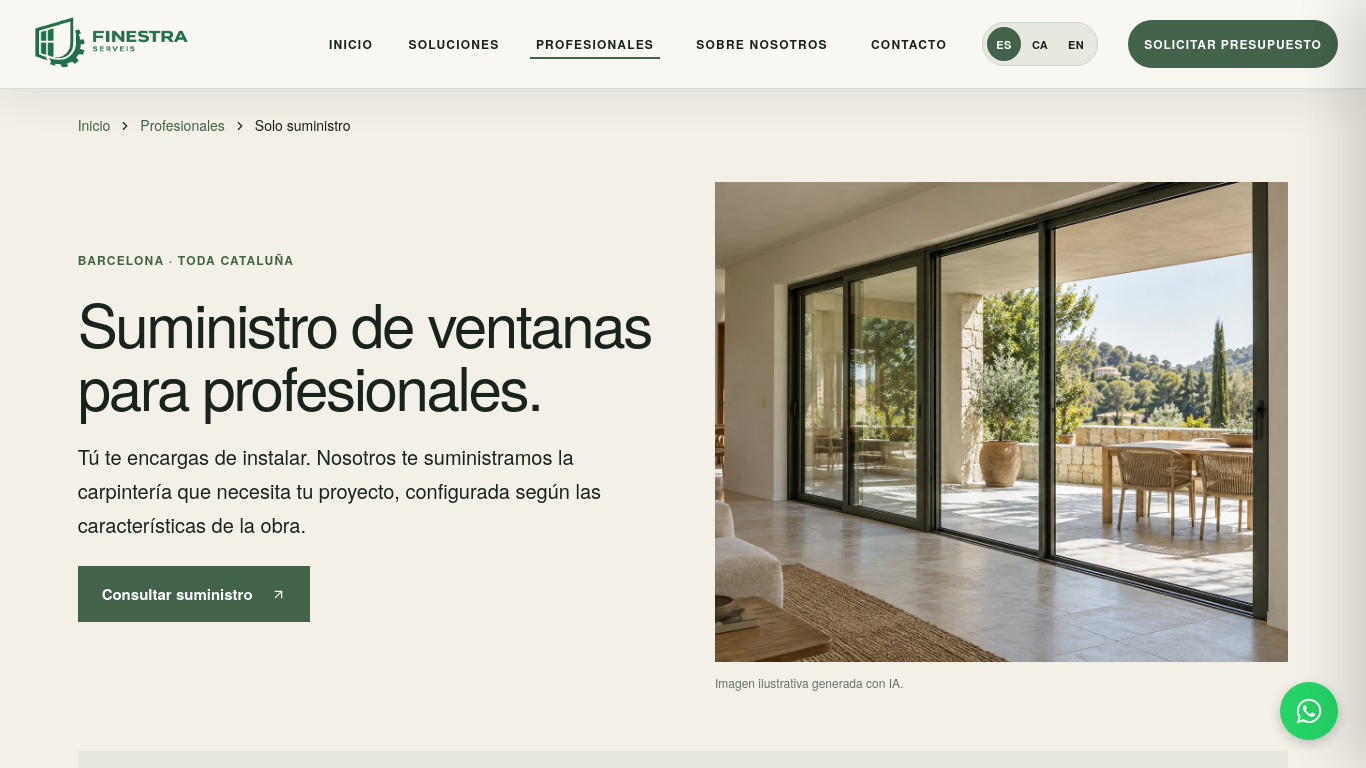
Test: suministro opens a dedicated page and carries the choice to contact
expect the heading "Suministro de ventanas para profesionales." is shown: met, box 78,291 -> 651,416
Click the link "Consultar suministro". click: [194, 594]
box: 78,566 -> 310,622
(page scrolled)
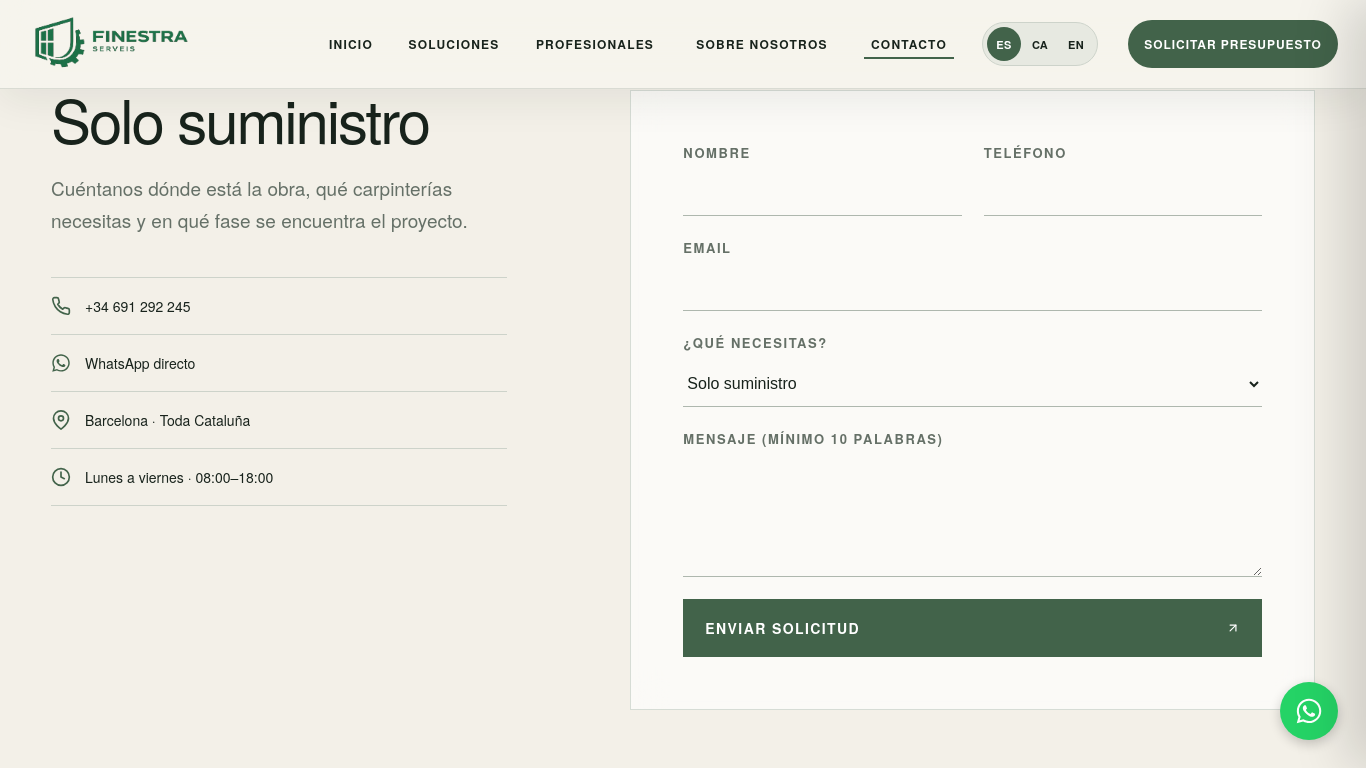
expect the dropdown shows "Solo suministro": met, box 683,361 -> 1262,407
